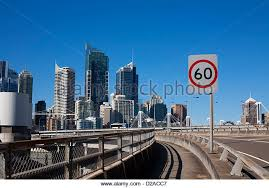Speed_limit_60km: (188, 60, 218, 89)
